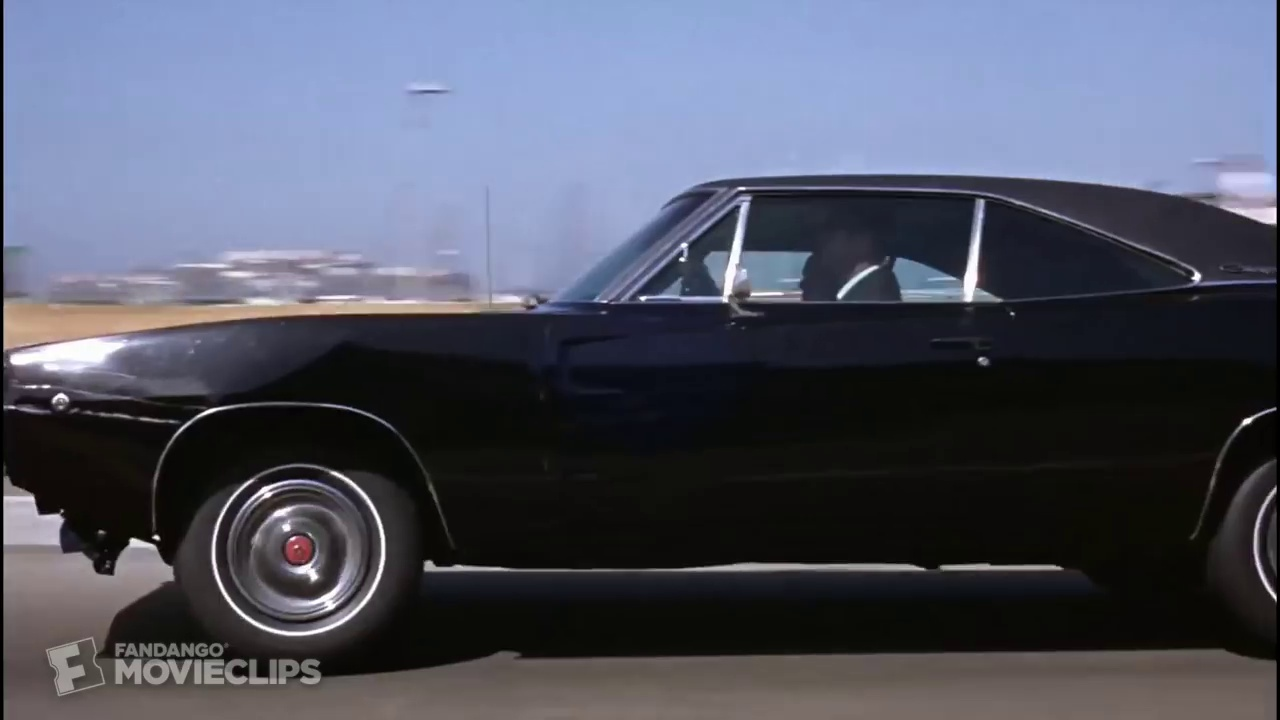car: (5, 169, 1280, 676)
person: (795, 192, 909, 311)
